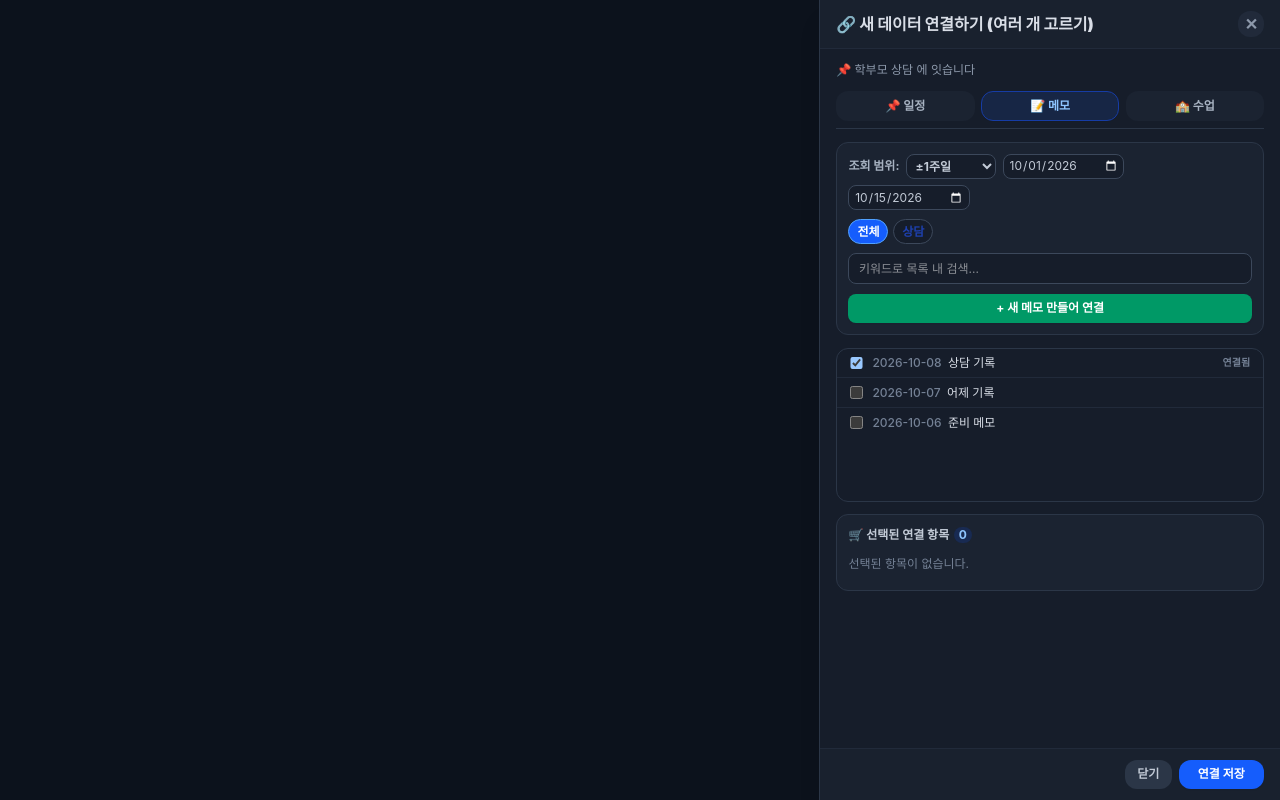
🔗 링크 연결 창 › 탭·범위(±1주일 - 그 항목의 날 둘레)·이미 이은 것은 연결됨·담고 저장 = 양쪽 한 묶음 + 닫기
Expected: the button "2026-10-08 상담 기록 연결됨" is disabled, 837,349 -> 1263,378
Click the button "2026-10-07 어제 기록".
click(907, 392)  # box 837,378 -> 1263,408
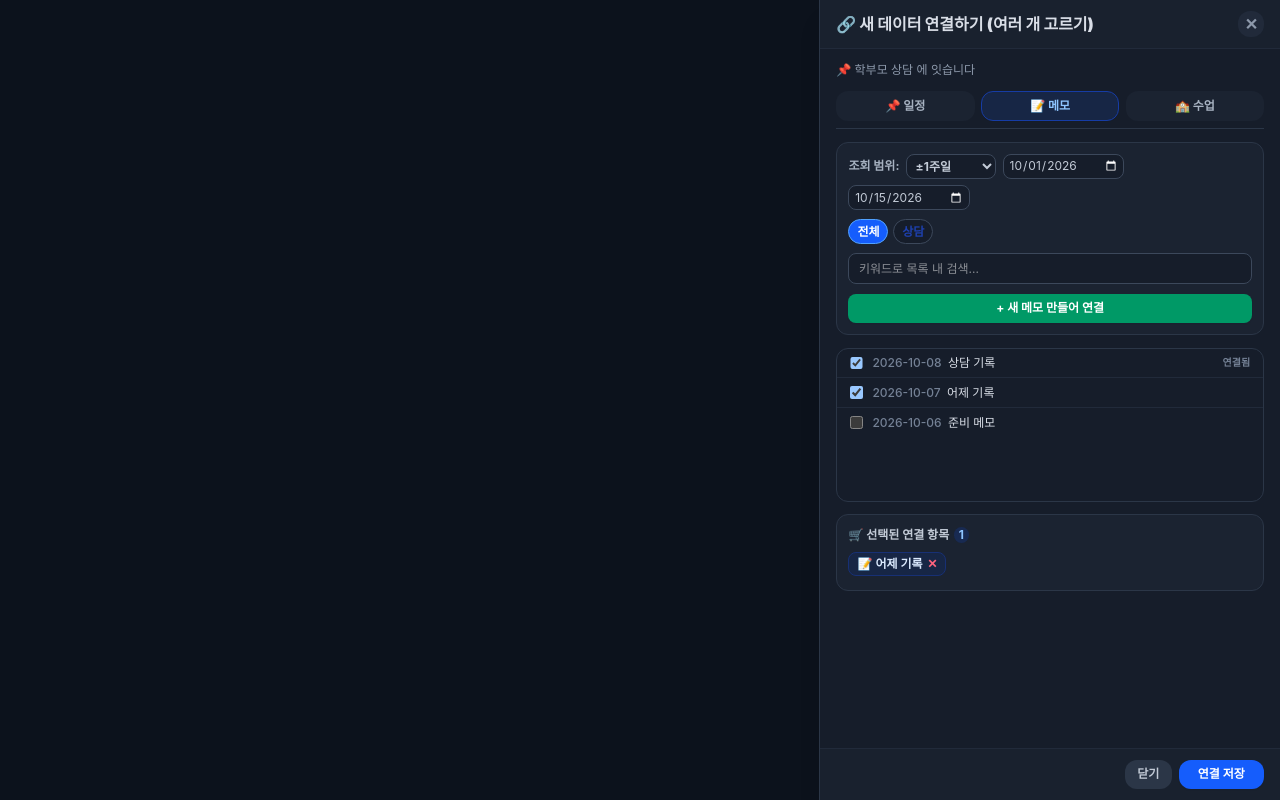
Click the button "2026-10-06 준비 메모".
click(907, 422)  # box 837,408 -> 1263,437
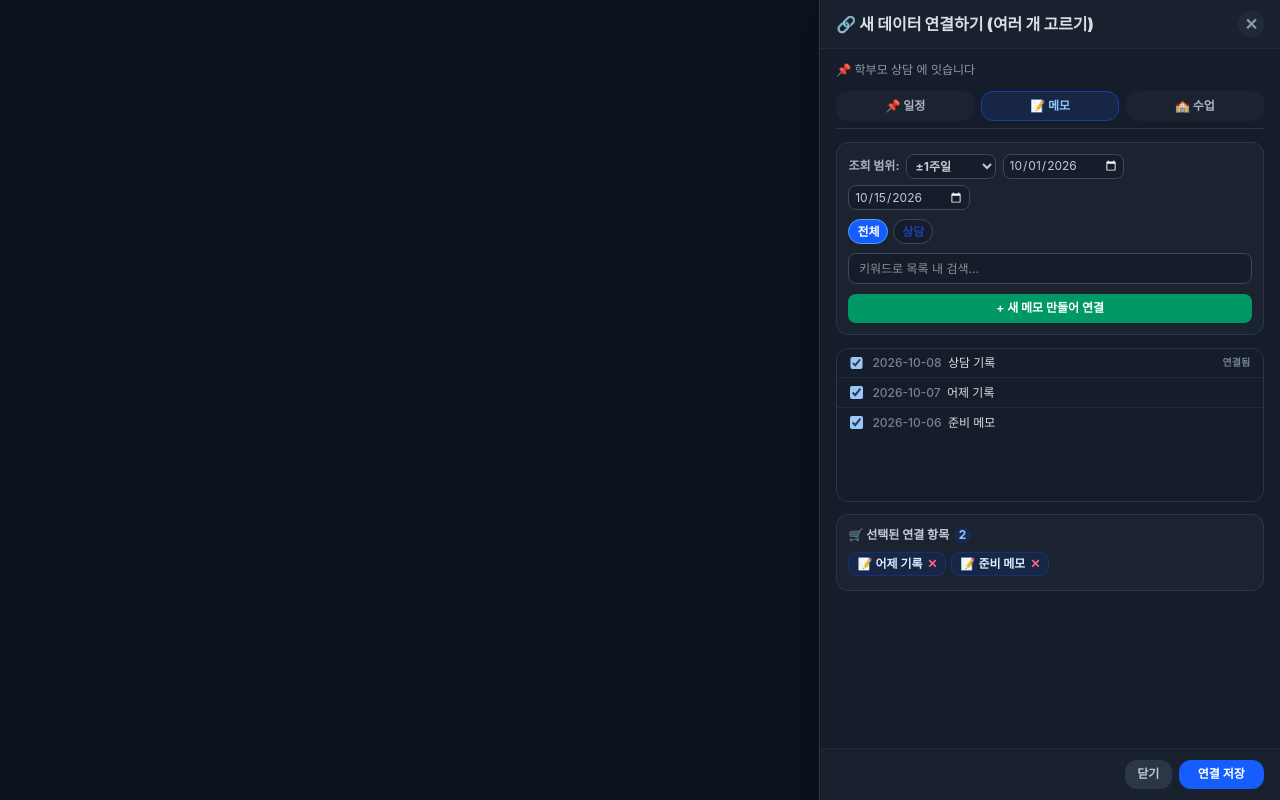
Result: the element showing "🛒 선택된 연결 항목 2 📝 어제 기록 ✕ 📝 준비 메모 ✕" has attribute data-linker-tray="2" at 836,514 -> 1264,591
Click the button "연결 저장".
click(1221, 774)  # box 1179,760 -> 1264,789
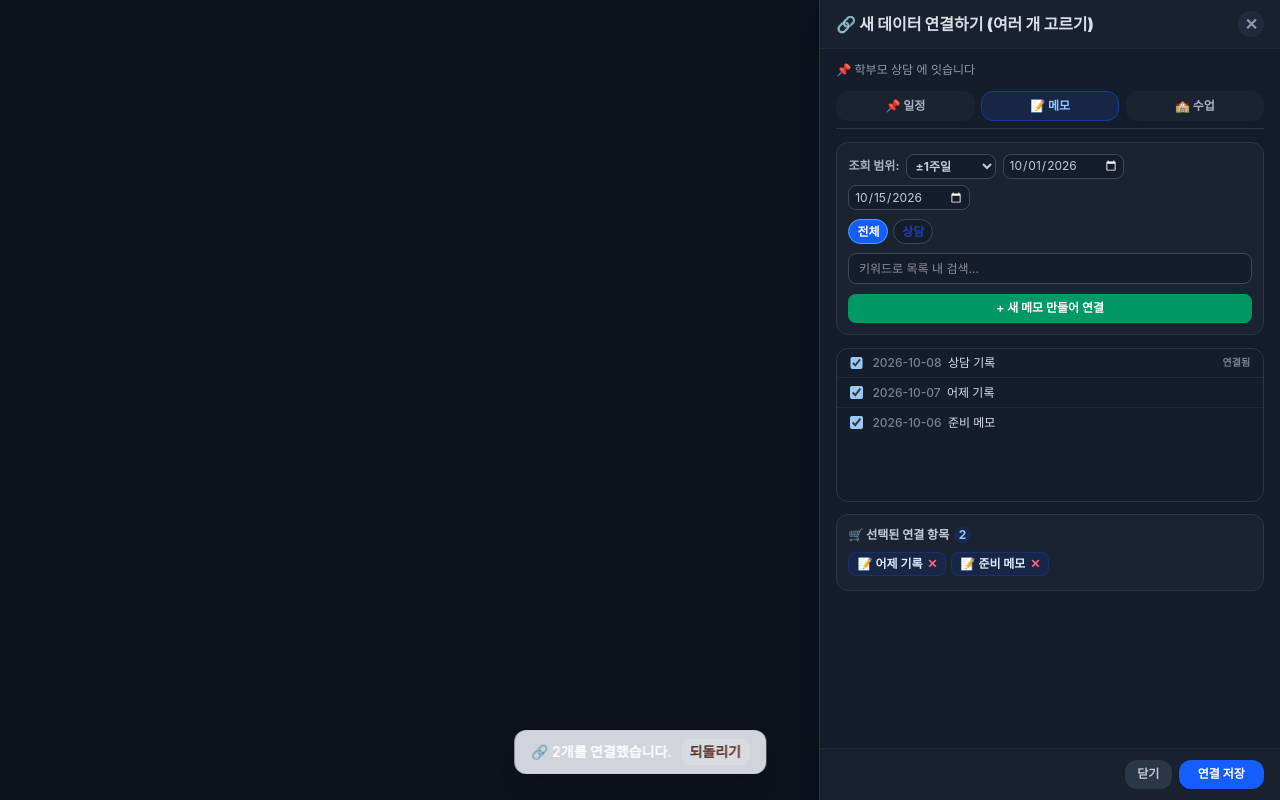
Result: the message "🔗 2개를 연결했습니다. 되돌리기" is shown at 514,730 -> 766,774
